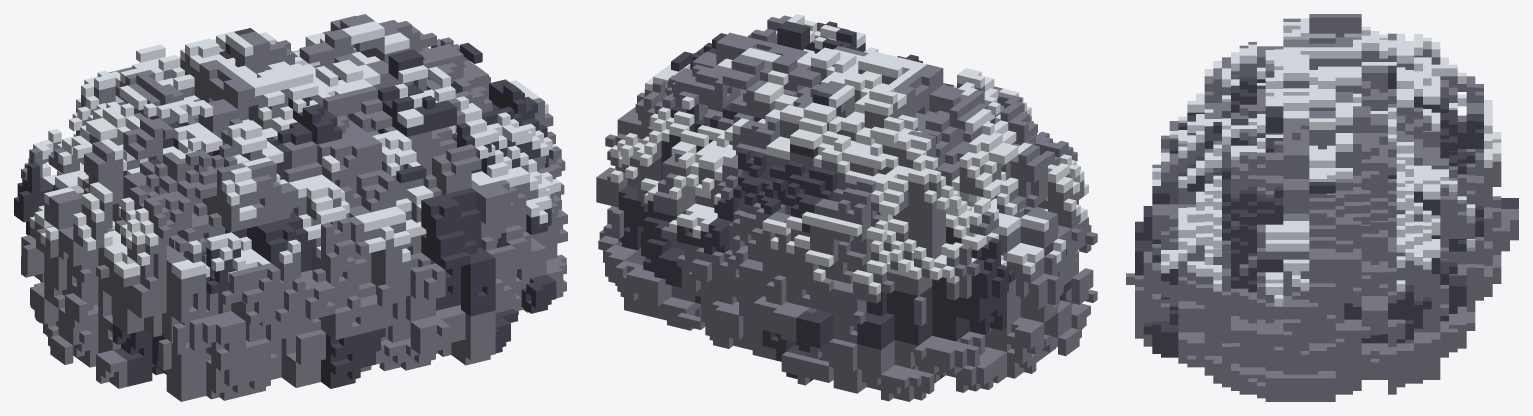
Rendered from rock_alpine_1.obj.
3 renders of one model, left to right at view 1: azimuth 30°, elevation 25°; view 2: azimuth 150°, elevation 25°; view 3: azimuth 270°, elevation 25°, orthographic. The views are drawn at different scales.
Bounding box in the file's own units: 1.45 × 0.75 × 1.12.
1 material, 1 textured.
